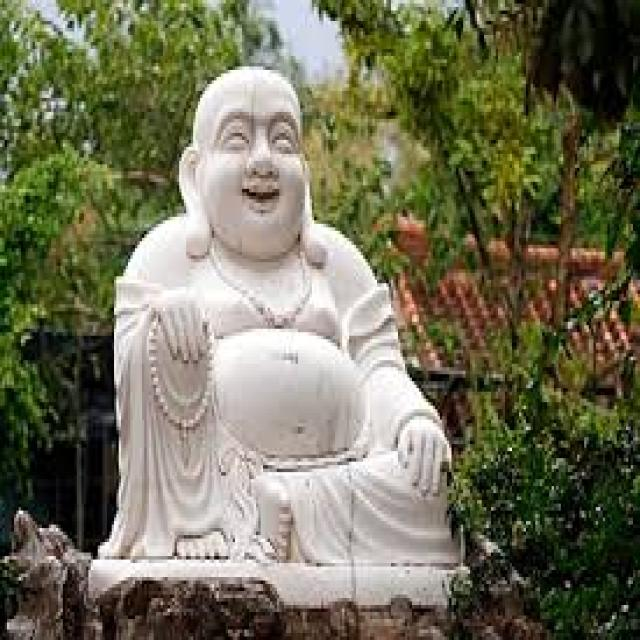Smiling Buddha: (126, 64, 404, 514)
